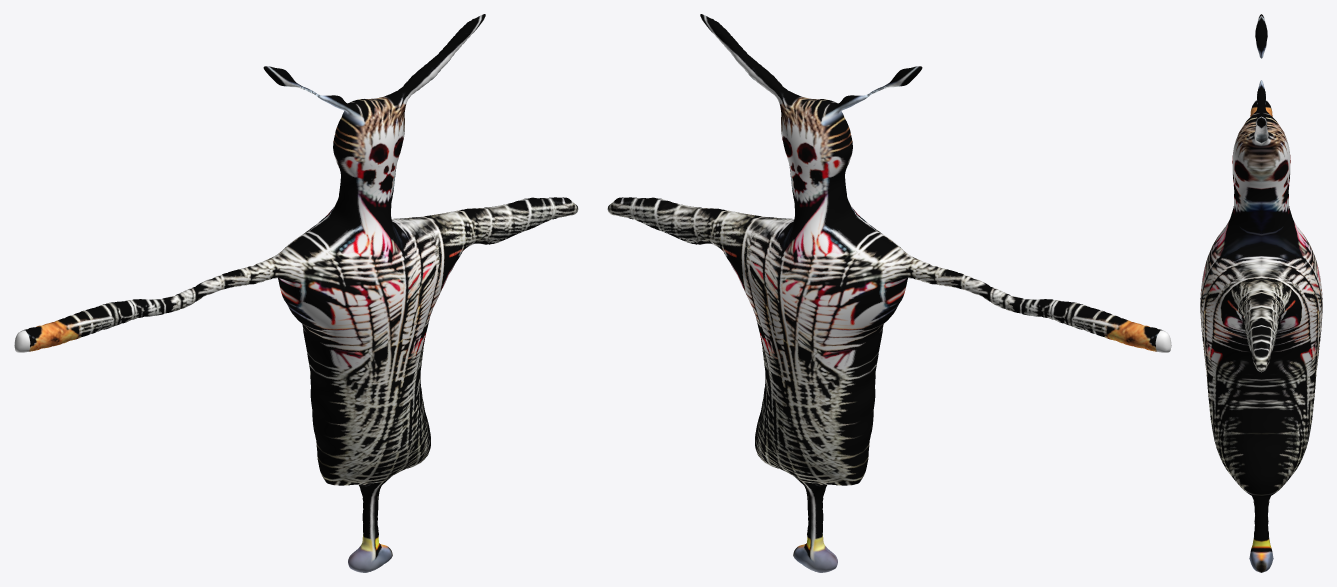
Rendered from deadbody2.glb.
3 renders of one model, left to right at view 1: azimuth 30°, elevation 25°; view 2: azimuth 150°, elevation 25°; view 3: azimuth 270°, elevation 25°, orthographic. The views are drawn at different scales.
Bounding box in the file's own units: 8.14 × 7.33 × 1.6.
1 material, 1 textured.
